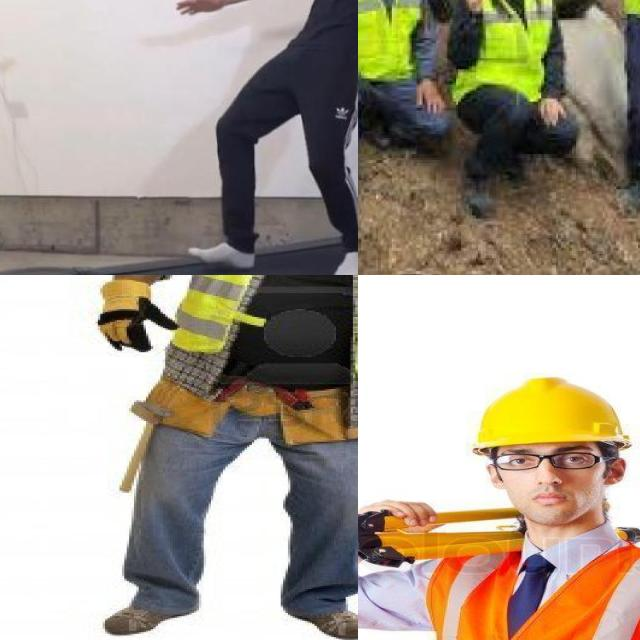face_nomask: (486, 450, 626, 525)
glasses: (486, 448, 611, 474)
hand_glove: (84, 275, 176, 359)
hand_noglove: (358, 494, 440, 531), (170, 0, 241, 31)
head_helmet: (472, 380, 631, 442)
person: (79, 275, 358, 639), (358, 366, 640, 640), (173, 0, 358, 275)
vest: (441, 533, 640, 640), (188, 275, 358, 379)
